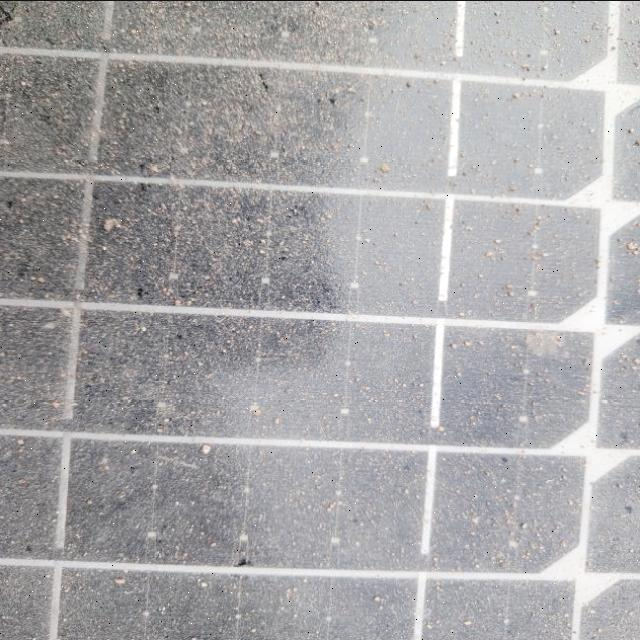Anomaly Solar Panel: (0, 2, 640, 640)
Surface Contaminant: (12, 11, 629, 633)
